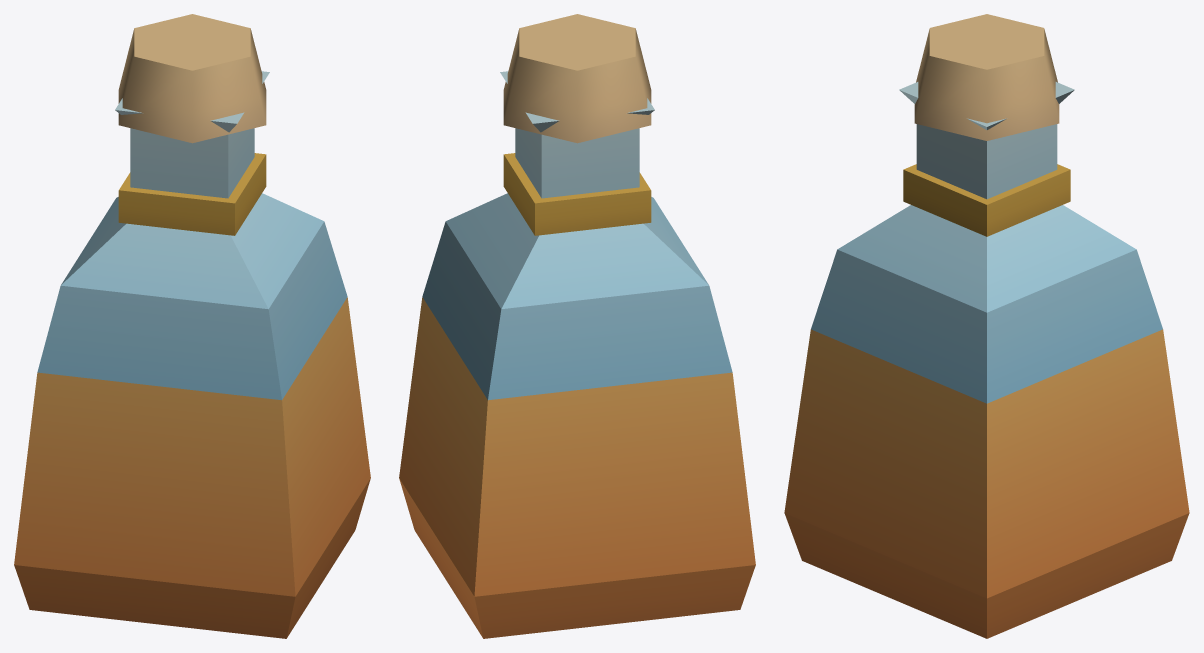
Rendered from item_potion_vigor.glb.
The picture shows the model from 3 angles, left to right: view 1: azimuth 30°, elevation 25°; view 2: azimuth 150°, elevation 25°; view 3: azimuth 270°, elevation 25°; orthographic projection.
Parts seen in each view (by area): view 1: item_potion_vigor; view 2: item_potion_vigor; view 3: item_potion_vigor.
Part boxes in pixels (box(x1,y1,x2,y2)): item_potion_vigor: box(14, 14, 370, 638); item_potion_vigor: box(399, 14, 755, 638); item_potion_vigor: box(784, 14, 1189, 638).
Size of the model in its own units: 0.92 by 1.3 by 0.92.
1 material, 1 textured.
